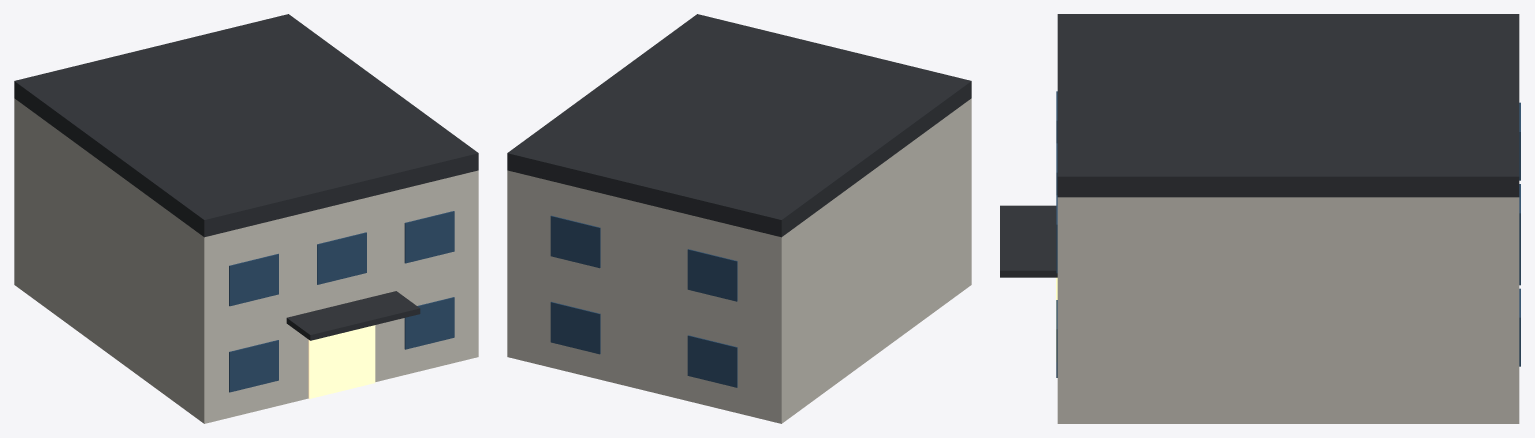
The model's file is bld_in_office.glb.
3 views of the same model, side by side, from view 1: azimuth 30°, elevation 25°; view 2: azimuth 150°, elevation 25°; view 3: azimuth 270°, elevation 25° (orthographic). The views are drawn at different scales.
Visible parts, largest first — view 1: bld_in_office; view 2: bld_in_office; view 3: bld_in_office.
Boxes of the visible parts, x1,y1,x2,y2 form: bld_in_office: [14, 14, 478, 423]; bld_in_office: [507, 14, 971, 423]; bld_in_office: [1000, 14, 1520, 423].
Size of what is drawn, in the model's own units: 10 by 7.1 by 13.54.
